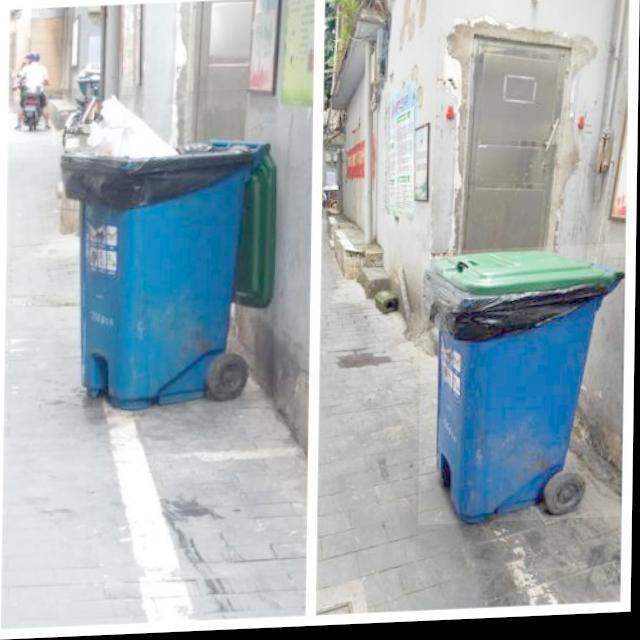garbage_bin: (420, 249, 625, 529)
overflow: (56, 90, 278, 411)
